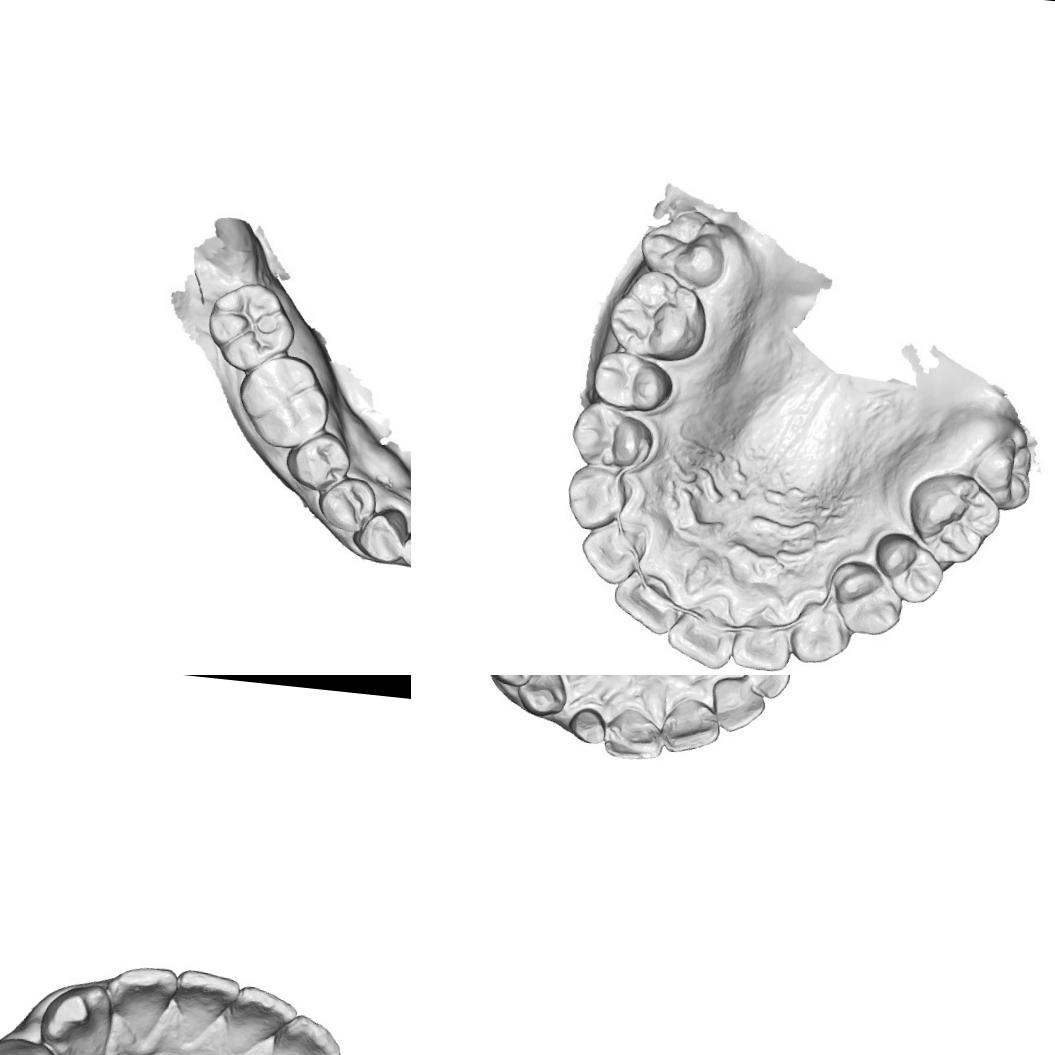canine: (35, 979, 119, 1055), (562, 458, 637, 536), (786, 600, 854, 668), (354, 506, 408, 566), (513, 675, 569, 720), (737, 675, 795, 702)
crown: (566, 702, 610, 748)
incisor: (100, 962, 181, 1048), (664, 593, 740, 673), (610, 560, 686, 640), (168, 966, 242, 1048), (226, 980, 300, 1055), (576, 517, 650, 589), (655, 692, 725, 758), (730, 610, 793, 675), (261, 1010, 348, 1055), (706, 675, 769, 737), (602, 705, 667, 764), (399, 516, 411, 575)
molar: (605, 266, 713, 367), (232, 350, 336, 454), (903, 470, 1006, 570), (204, 278, 302, 379), (635, 201, 731, 291), (969, 430, 1038, 514)
premolar: (567, 400, 656, 473), (827, 560, 908, 638), (589, 349, 676, 417), (870, 530, 948, 604), (282, 428, 356, 496), (316, 473, 378, 539), (485, 675, 547, 690)
